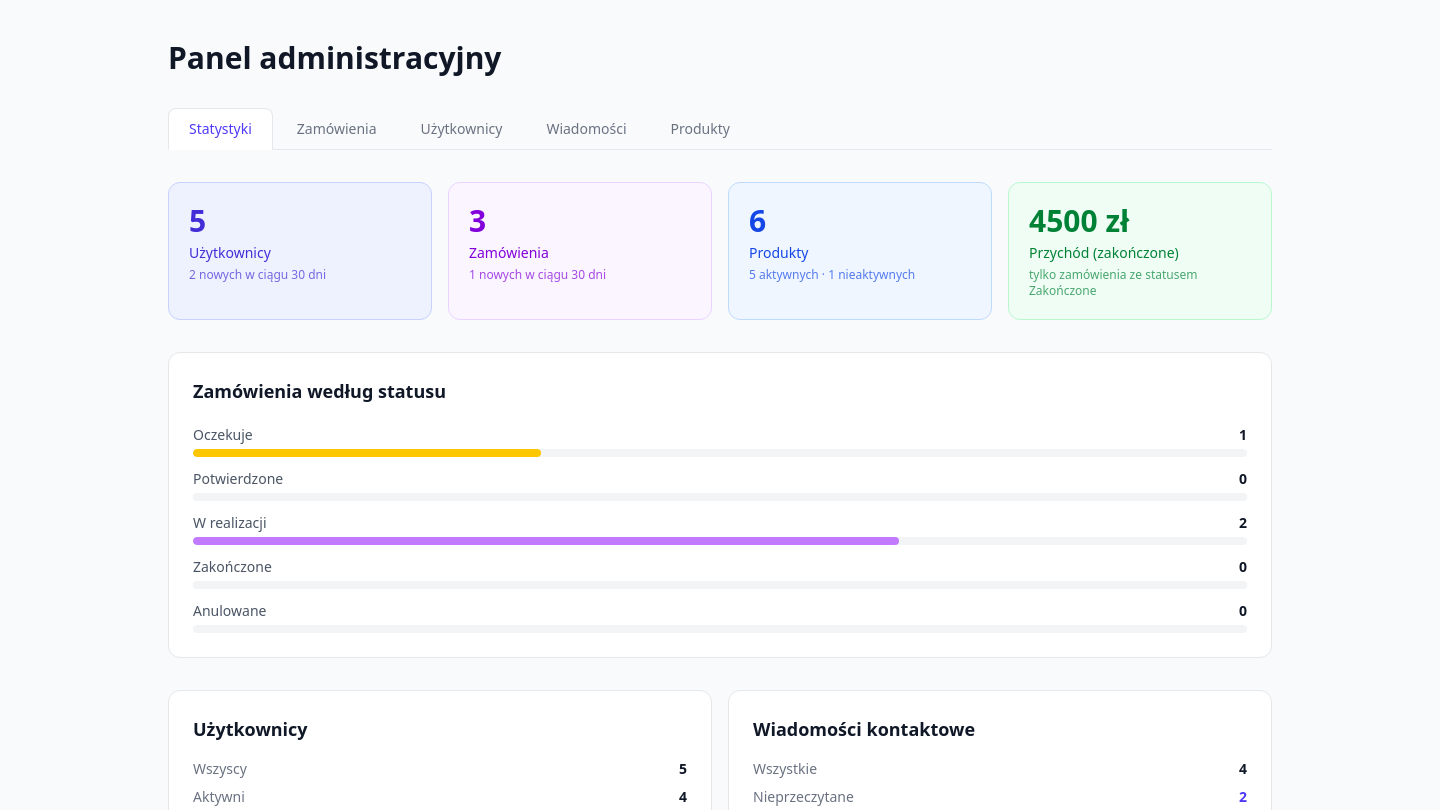
Test: AdminPage — navigation › switches to OrdersTab on click
Step 1. Click the button "Zamówienia" → click(337, 128), box [277,108,397,149]
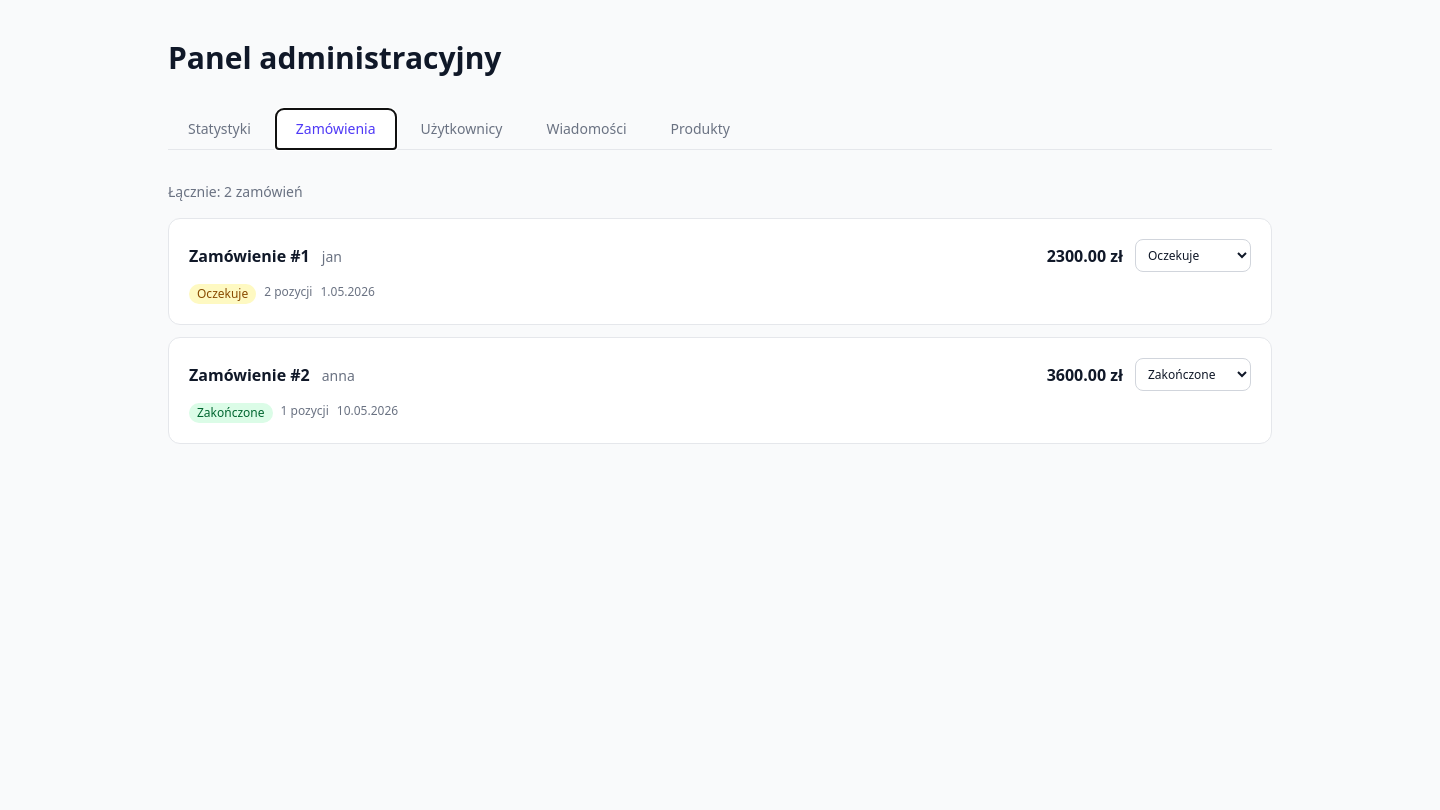
expect the text "Zamówienie #1" is shown: met, box [189,244,310,266]
